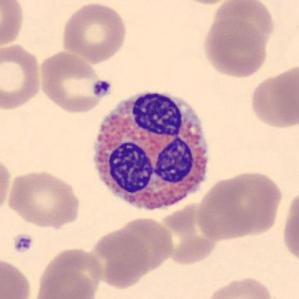Eosinophil: (85, 79, 218, 220)
Platelets: (11, 232, 34, 255), (91, 78, 113, 98)
RBC: (194, 168, 284, 242), (6, 168, 82, 229), (36, 49, 106, 115), (59, 1, 130, 64), (201, 17, 270, 79), (87, 227, 150, 289), (110, 215, 176, 273), (162, 201, 218, 269), (33, 246, 105, 298), (207, 0, 277, 51), (247, 62, 299, 130), (0, 41, 44, 112), (203, 274, 276, 299), (280, 184, 299, 268), (0, 255, 33, 299), (0, 0, 26, 50), (0, 152, 13, 217), (171, 0, 239, 6)
